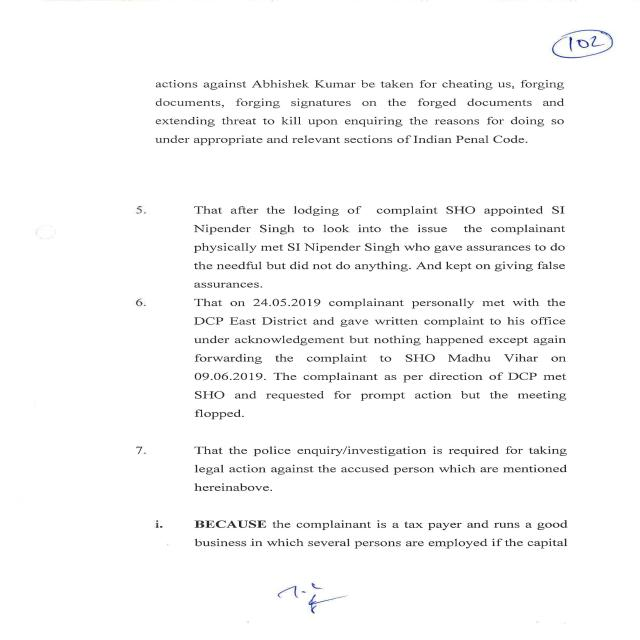page-number: (374, 0, 638, 74)
